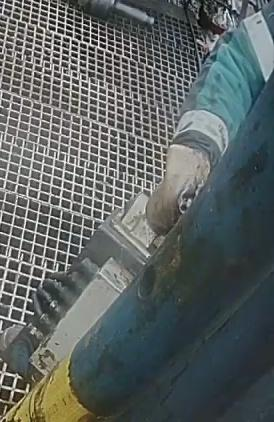gloves: (144, 143, 211, 235)
